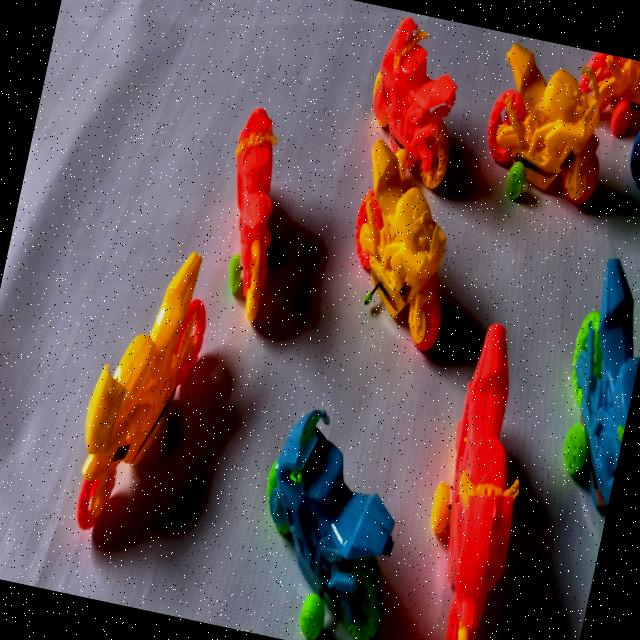bikes: (77, 252, 205, 528), (266, 409, 394, 640), (446, 324, 518, 640), (355, 139, 445, 348), (564, 258, 639, 506), (488, 45, 599, 201), (373, 18, 456, 187), (236, 108, 276, 321)
